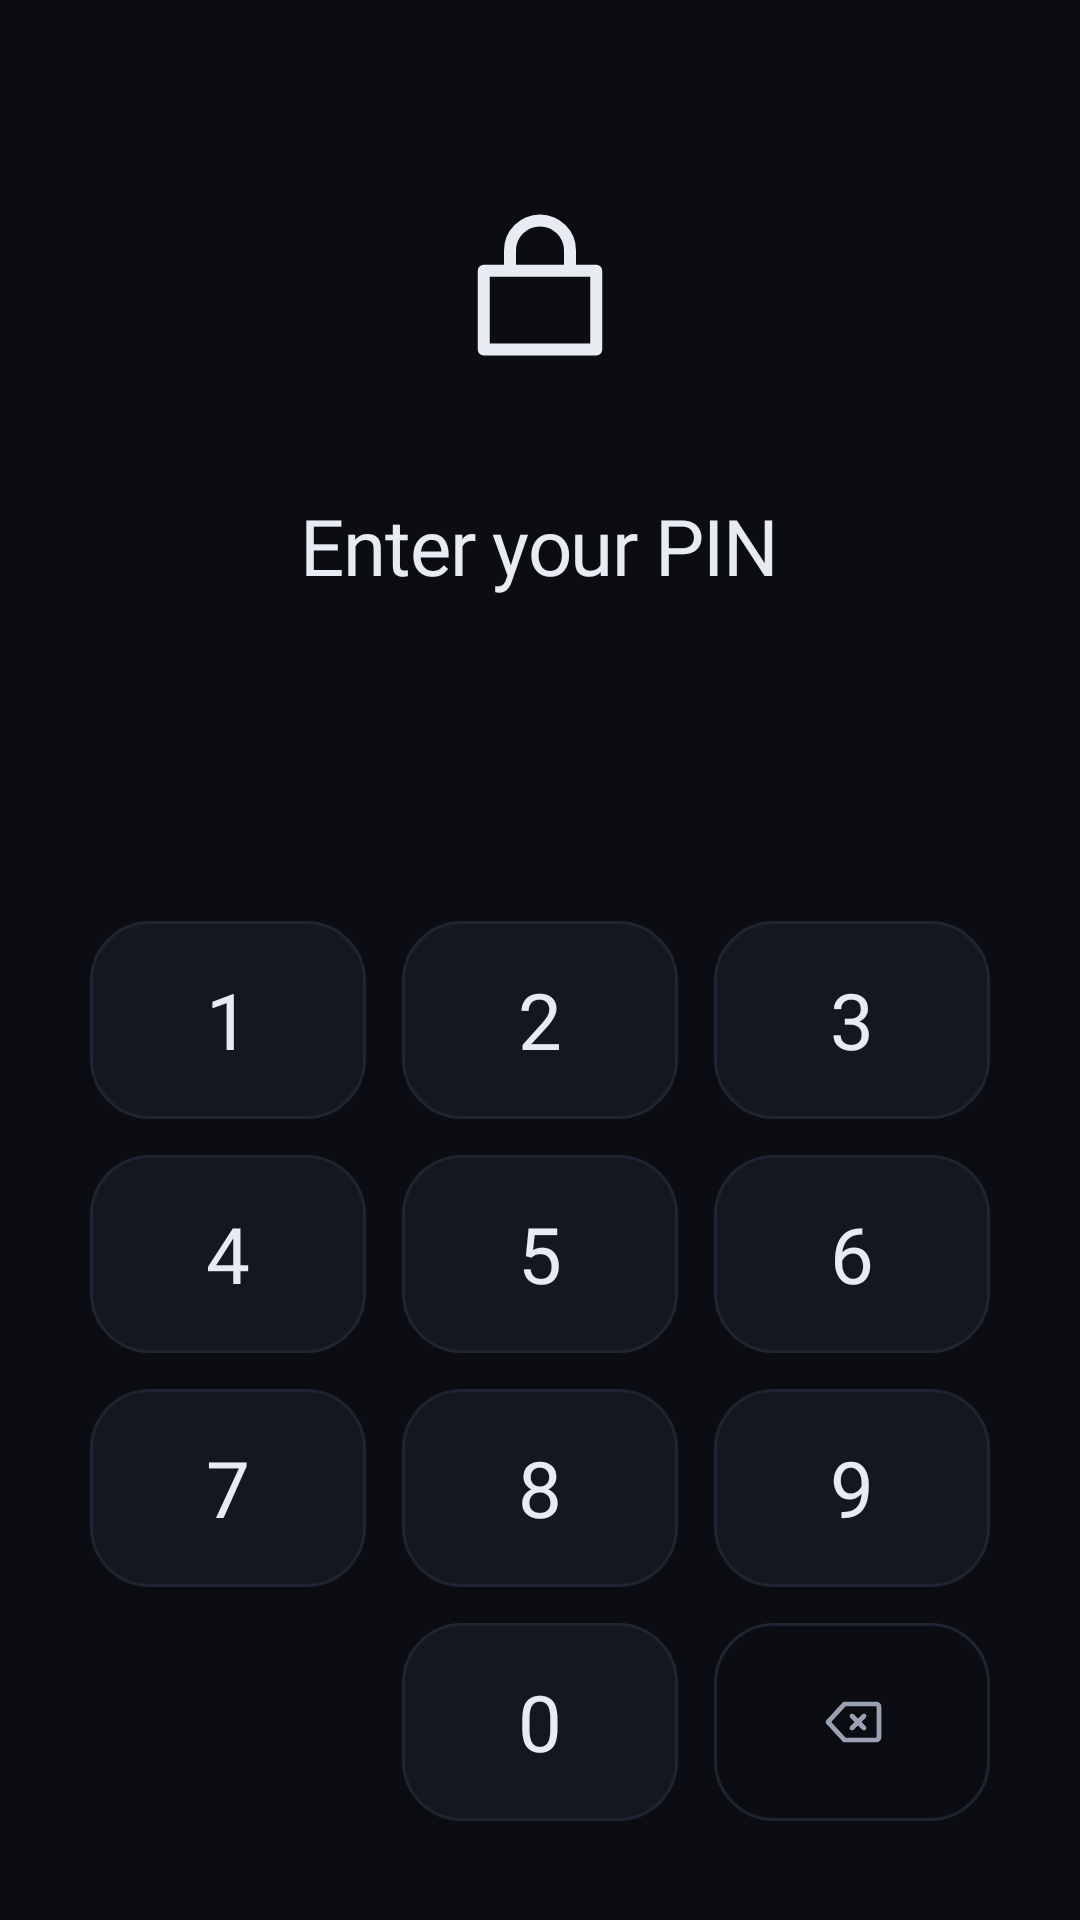

Icons on this 1080px×1920px Android screen, each with its box as bbox(x1, y1, x2, y2):
Delete: bbox(714, 1623, 990, 1821)
lock line: bbox(477, 214, 603, 356)
